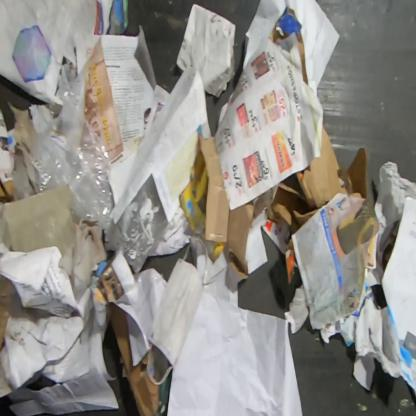cardboard: (0, 186, 112, 300), (269, 122, 369, 235), (179, 133, 254, 281), (109, 300, 174, 416), (270, 6, 308, 83), (262, 216, 298, 284), (0, 104, 17, 204)
soft_plastic: (29, 66, 115, 237)
